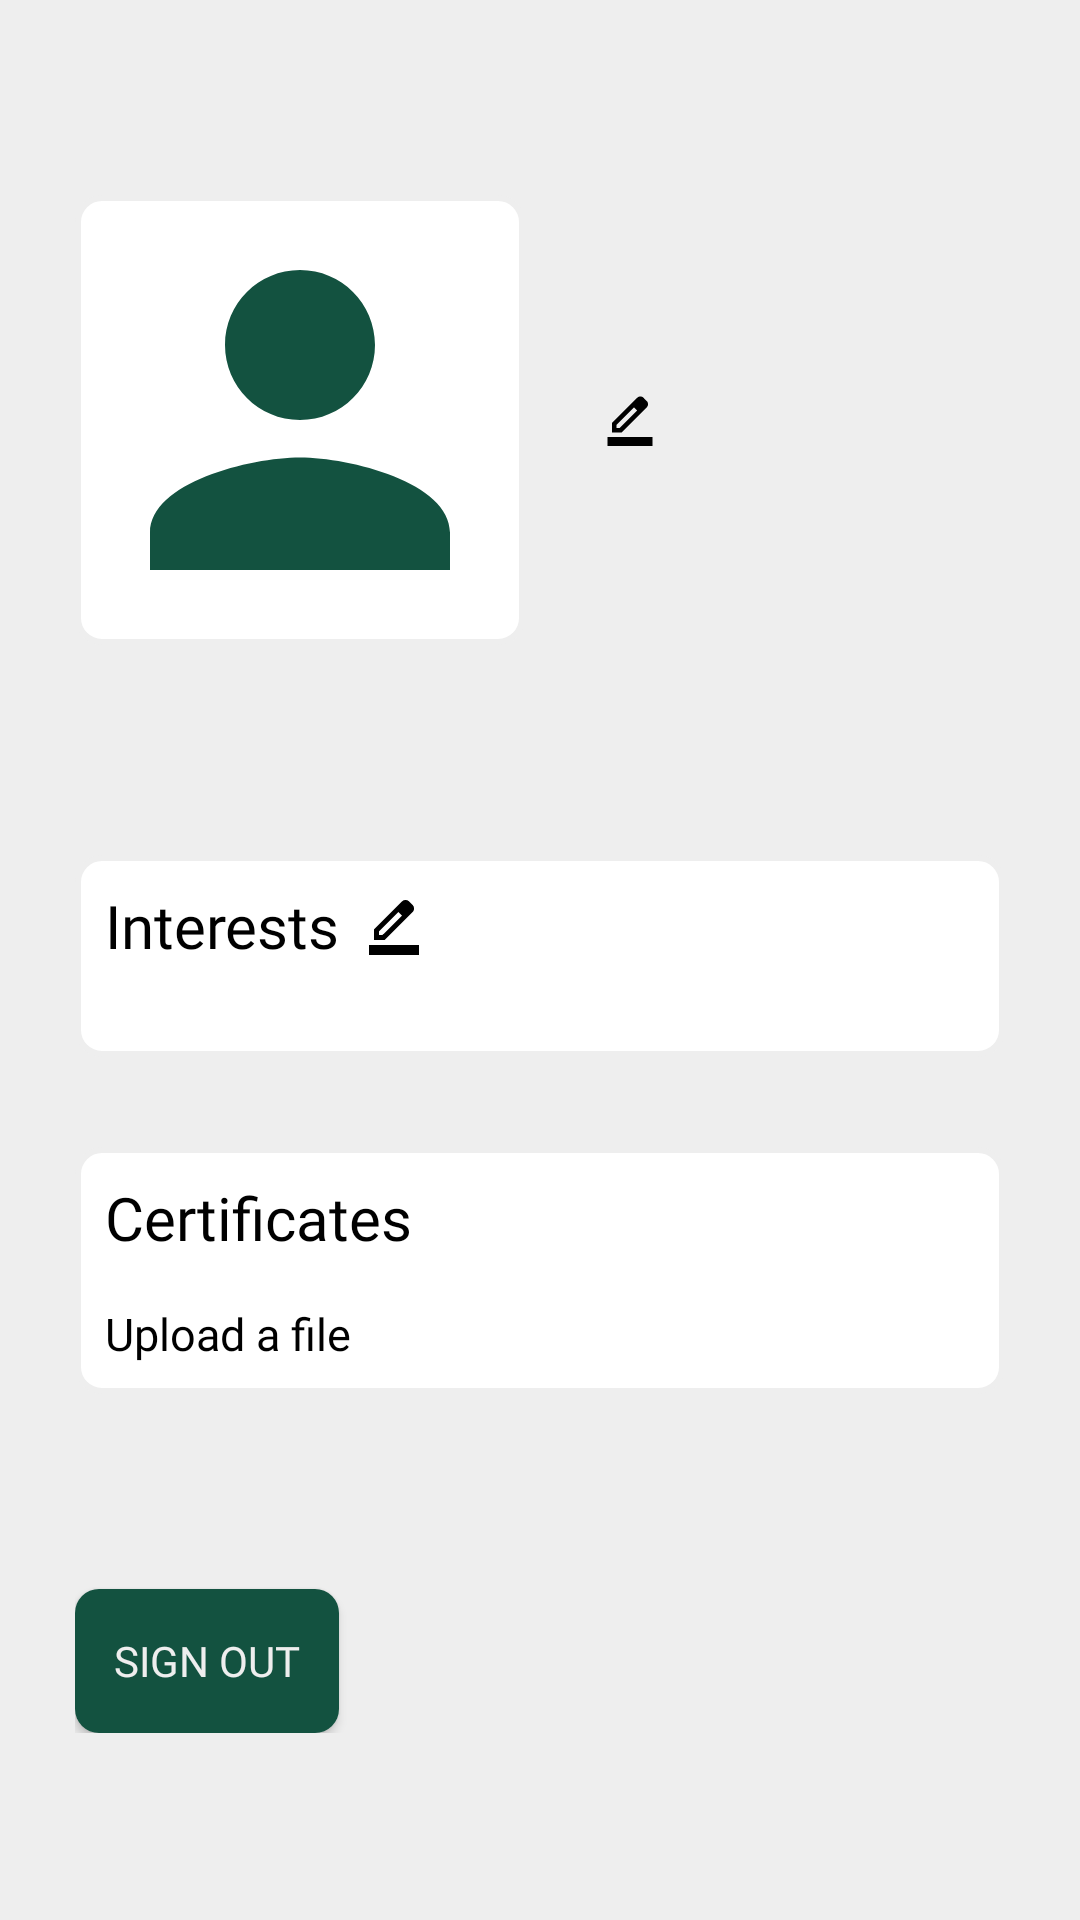

Screen size 1080 x 1920. Icon name, then its center in pixels as (x,y):
person: (300,420)
